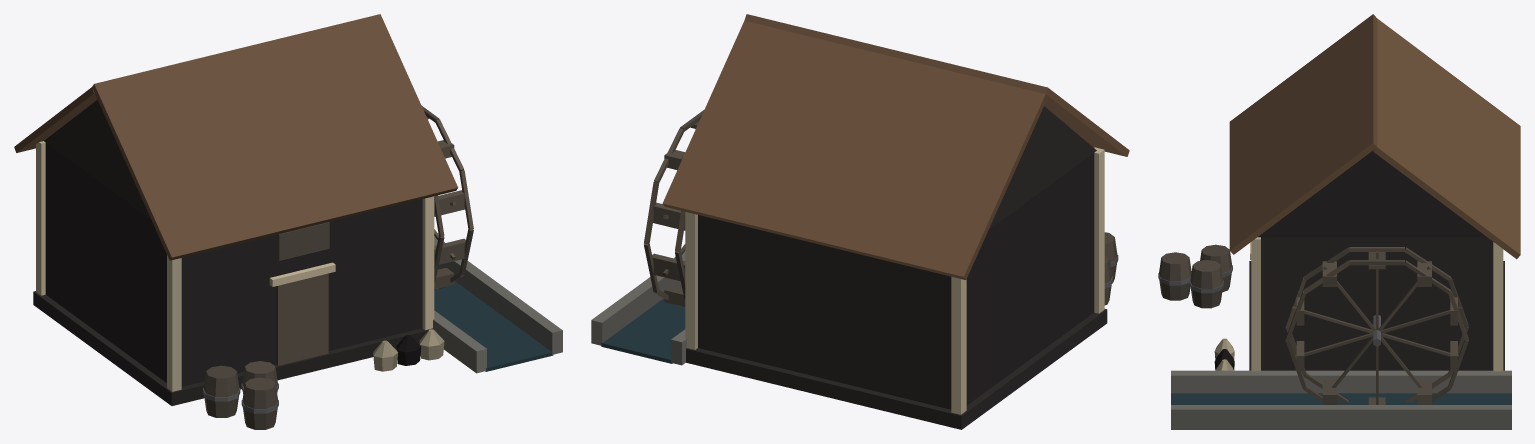
Rendered from walk_ashen_mill.glb.
3 renders of one model, left to right at view 1: azimuth 30°, elevation 25°; view 2: azimuth 150°, elevation 25°; view 3: azimuth 270°, elevation 25°, orthographic. The views are drawn at different scales.
Parts seen in each view (by area): view 1: walk_ashen_mill, walk_ashen_mill_roof; view 2: walk_ashen_mill, walk_ashen_mill_roof; view 3: walk_ashen_mill, walk_ashen_mill_roof.
Boxes of the visible parts, x1,y1,x2,y2 form: walk_ashen_mill: (33,100,562,429); walk_ashen_mill_roof: (14,14,458,260); walk_ashen_mill: (591,106,1118,429); walk_ashen_mill_roof: (662,14,1129,279); walk_ashen_mill: (1158,150,1511,429); walk_ashen_mill_roof: (1229,14,1520,259).
Size of what is drawn, in the model's own units: 8.52 by 6.36 by 8.08.
Materials: 2 (2 with a texture image).
